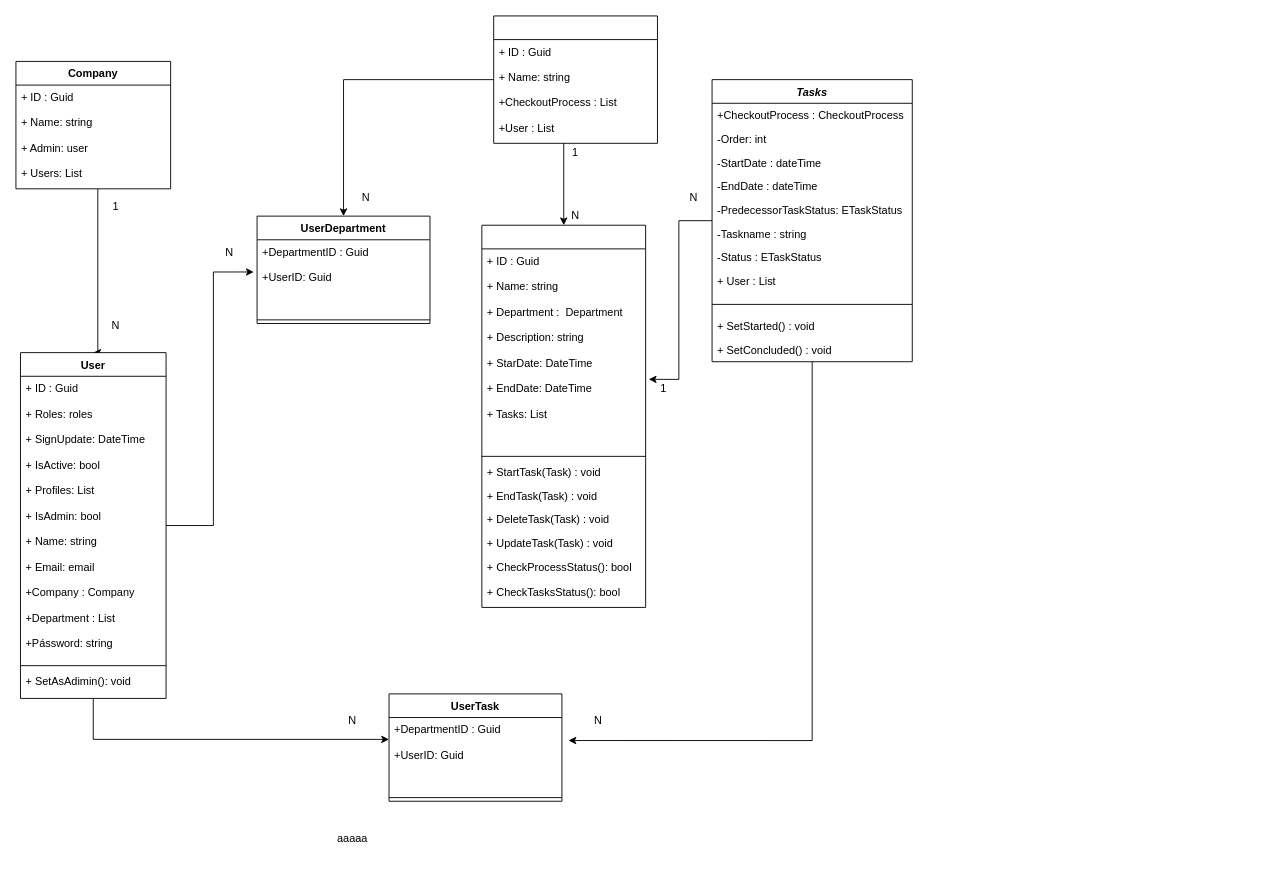
This 1269x882 diagram has some shape labels left out. Here are the shapes that lost their labels. From the top down, the box of each, then its label:
(493, 15, 657, 143): Departament
(481, 224, 646, 607): CheckoutProcess
